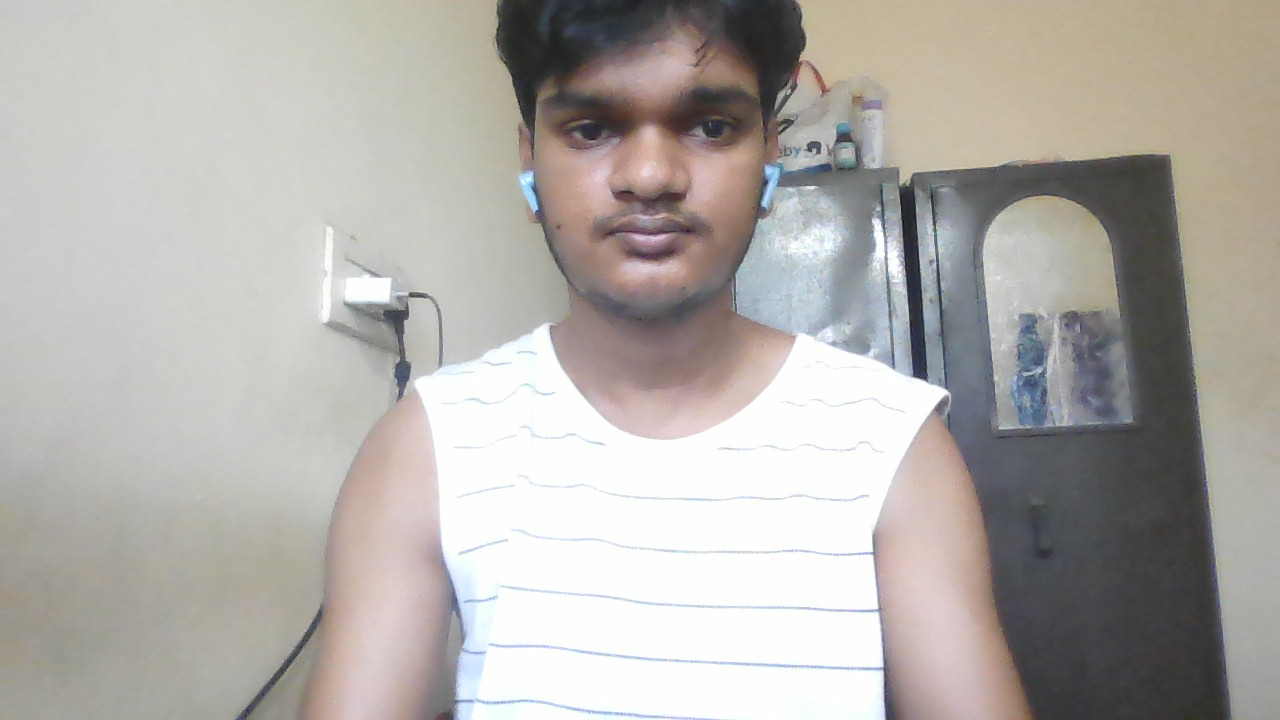earphone: (764, 162, 782, 202), (519, 173, 537, 213)
